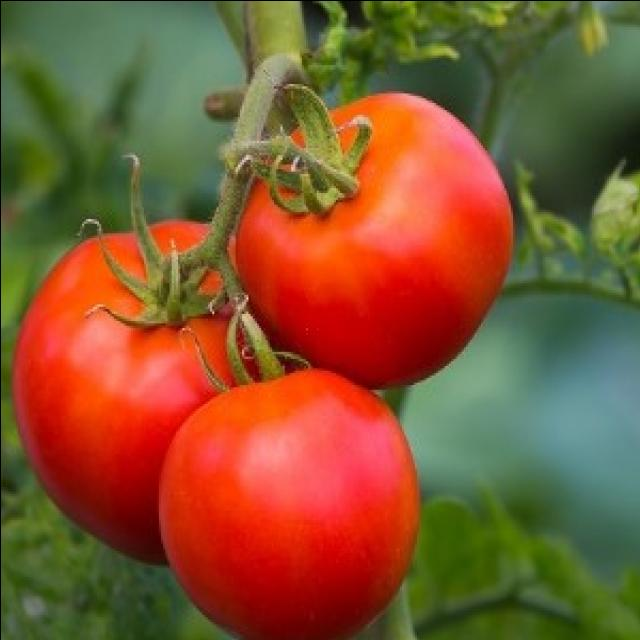Healthy: (12, 184, 255, 548), (240, 85, 520, 373), (152, 370, 424, 640)
